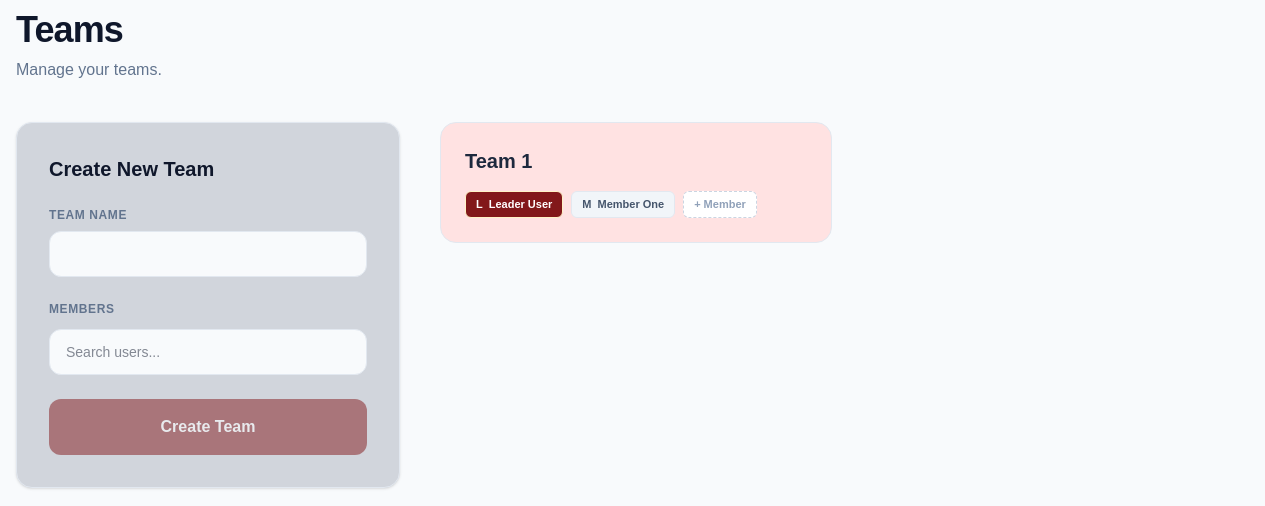
Teams Component › submits the create team form and prepends the result to the UI list
Check: the heading "Team 1" is shown, box [465,150,532,172]
Type "Team 2" into the 1st field.
click(208, 254); type("Team 2")  # box [49,231,367,277]
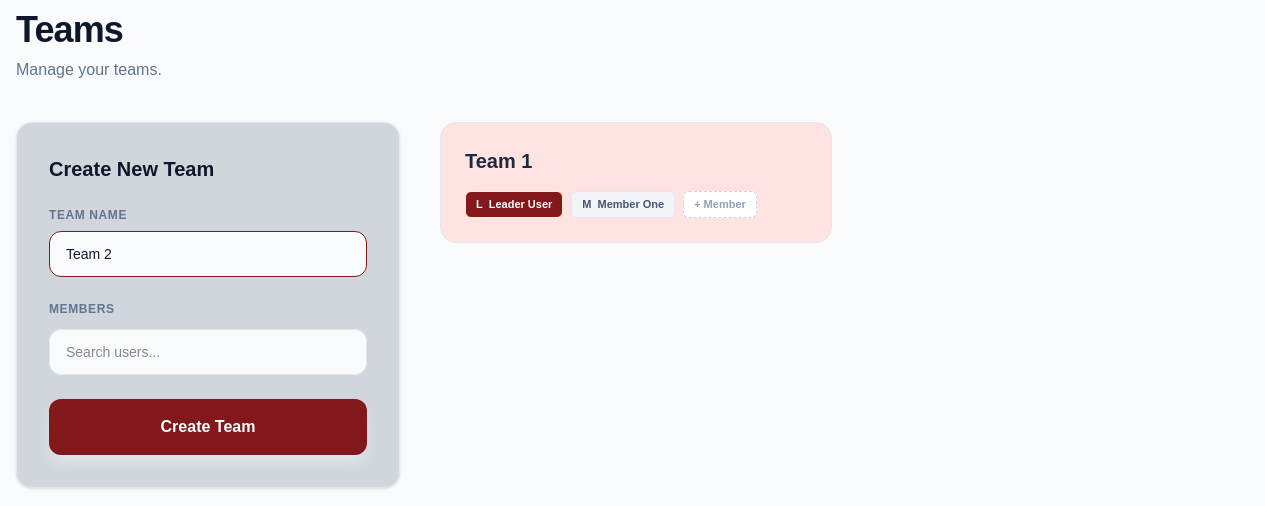
Click the button "Create Team".
click(208, 427)  # box [49,399,367,455]
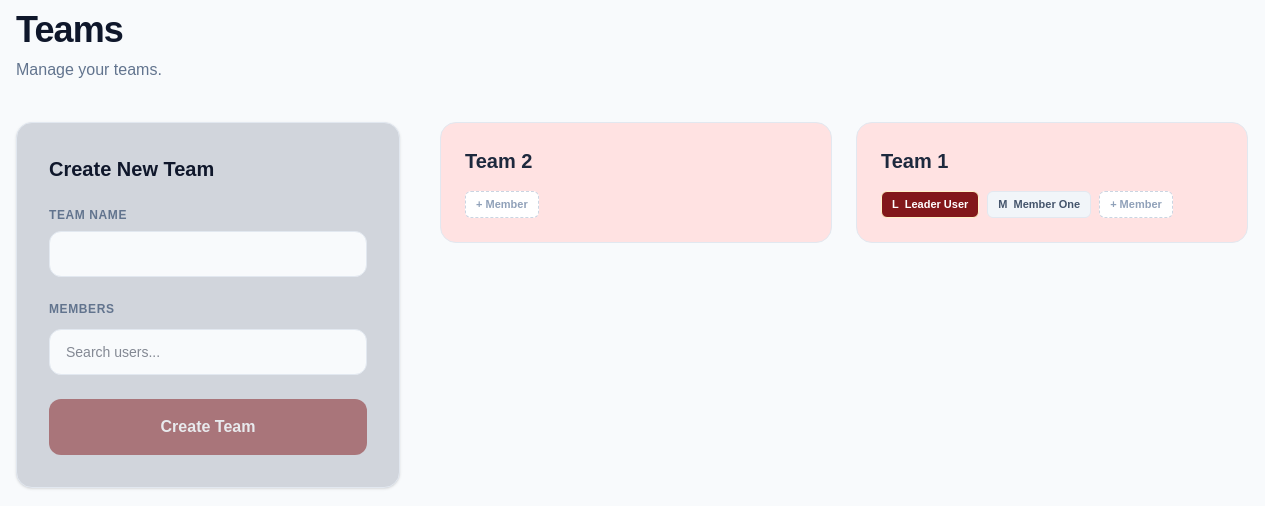
Check: the heading "Team 2" is shown, box [465,150,532,172]
